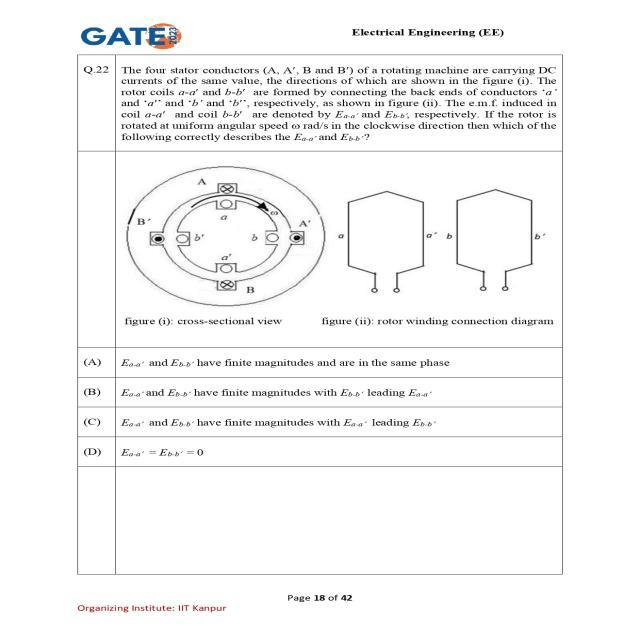Answer_Block: (77, 346, 565, 468)
Question_Answer_Block: (76, 54, 561, 470)
Question_Block: (75, 57, 558, 348)
Question_Paper_Area: (79, 54, 566, 576)
